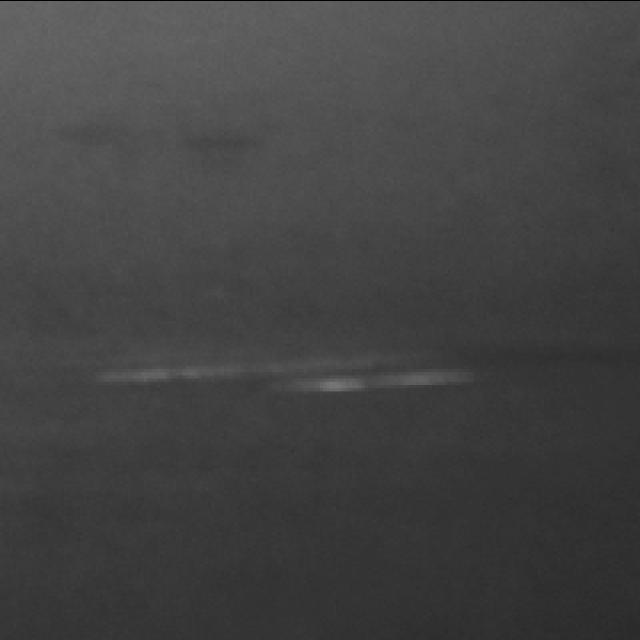scratches: (91, 360, 478, 390)
